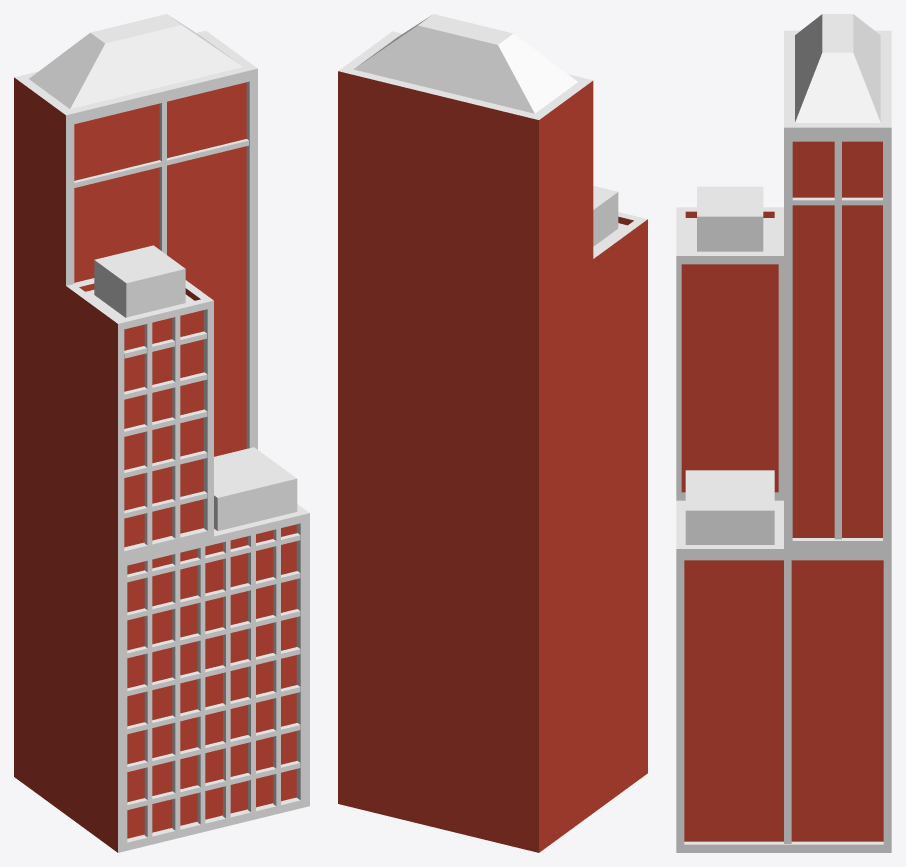
File: Building_26_Red (1).glb
The picture shows the model from 3 angles, left to right: view 1: azimuth 30°, elevation 25°; view 2: azimuth 150°, elevation 25°; view 3: azimuth 270°, elevation 25°; orthographic projection. The views are drawn at different scales.
Parts seen in each view (by area): view 1: pasted__pCube30; view 2: pasted__pCube30; view 3: pasted__pCube30.
Part boxes in pixels (x1,y1,x2,y2): pasted__pCube30: [14, 14, 309, 852]; pasted__pCube30: [338, 14, 647, 852]; pasted__pCube30: [676, 14, 891, 852].
Bounding box in the file's own units: 3842 × 14235 × 3603.
